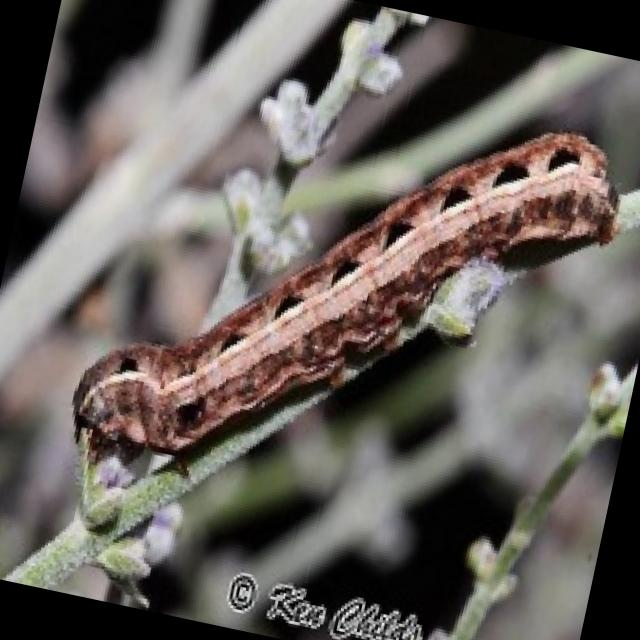armyworm: (36, 17, 640, 564)
